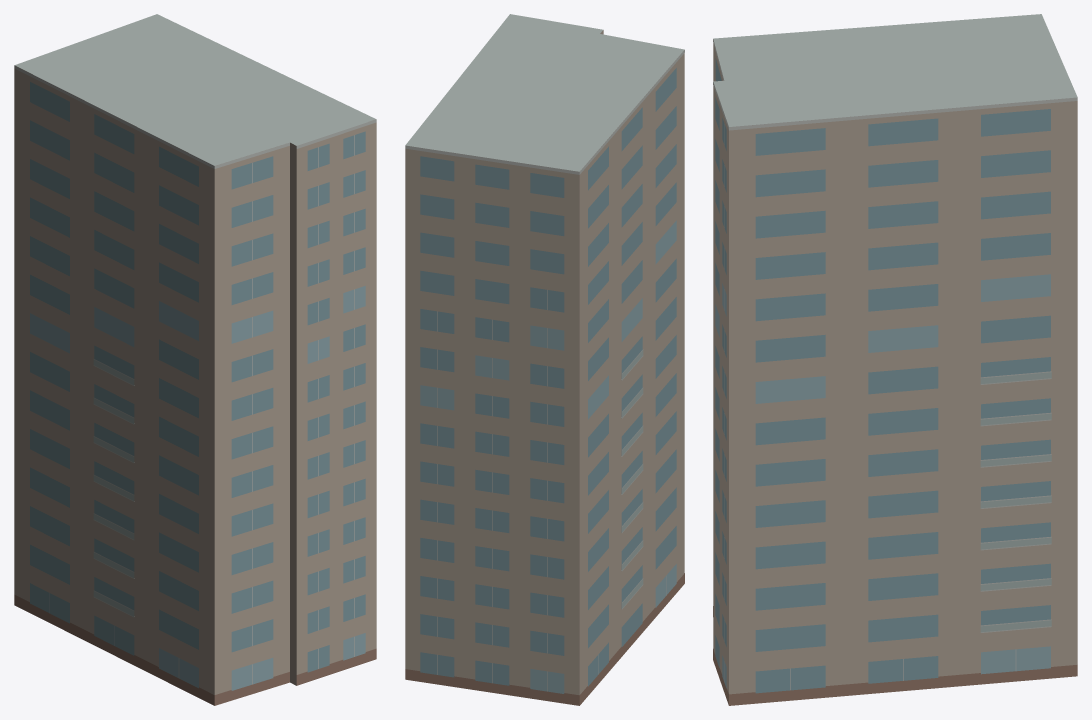
The model's file is residential-ebb54e60-21f1-4f46-af93-be15c55171a0.glb.
3 views of the same model, side by side, from view 1: azimuth 30°, elevation 25°; view 2: azimuth 150°, elevation 25°; view 3: azimuth 270°, elevation 25° (orthographic). The views are drawn at different scales.
Visible parts, largest first — view 1: residential-ebb54e60-21f1-4f46-af93-be15c55171a0.tmp; view 2: residential-ebb54e60-21f1-4f46-af93-be15c55171a0.tmp; view 3: residential-ebb54e60-21f1-4f46-af93-be15c55171a0.tmp.
Boxes of the visible parts, x1,y1,x2,y2 form: residential-ebb54e60-21f1-4f46-af93-be15c55171a0.tmp: (14,14,376,705); residential-ebb54e60-21f1-4f46-af93-be15c55171a0.tmp: (405,14,684,705); residential-ebb54e60-21f1-4f46-af93-be15c55171a0.tmp: (713,14,1077,705).
Bounding box in the file's own units: 17.19 × 41 × 23.41.
